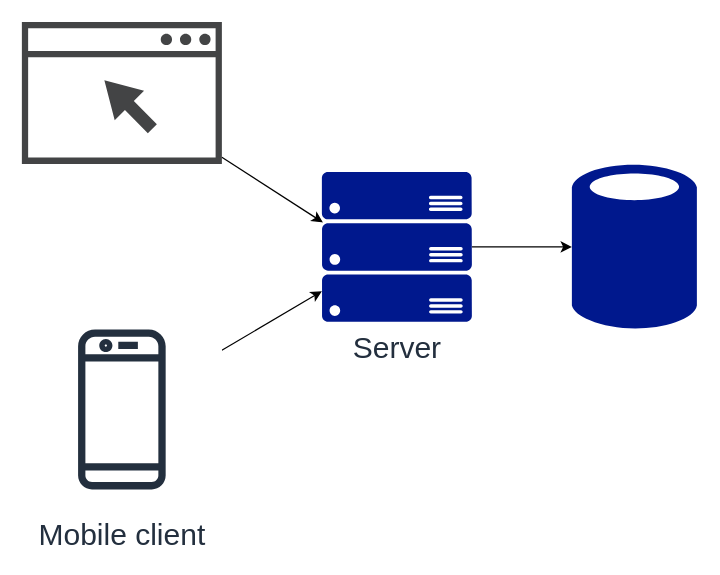
Image size: 720x575. Some labels were removed from this diagram. The centre of each missing label's shape, as x and y in pixels:
"Database" belongs at (633,246).
"Web client" belongs at (121,92).
